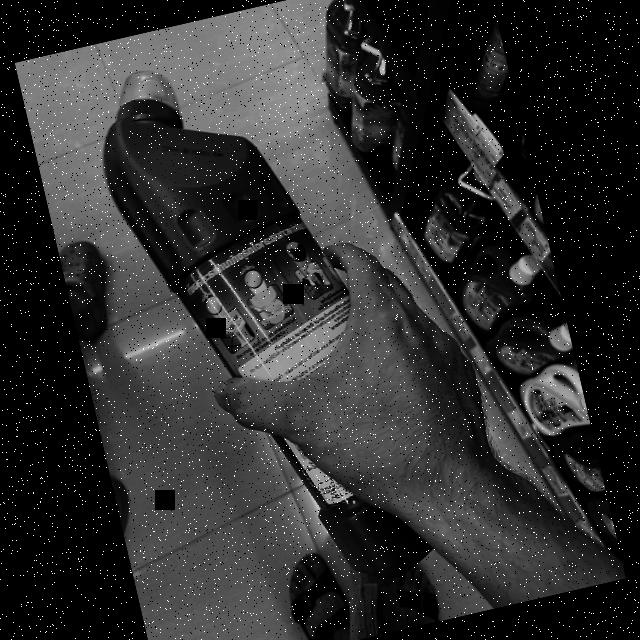chemical_plastic_bottle: (74, 26, 442, 626)
